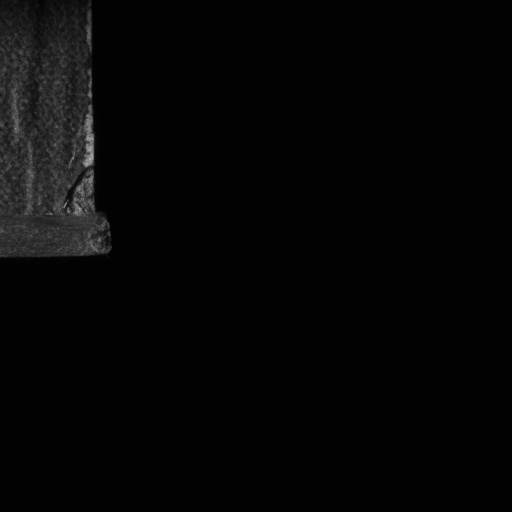bengque: (61, 163, 103, 218)
